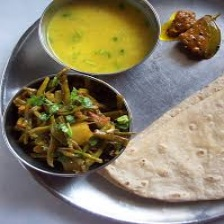roti: (100, 69, 224, 202)
